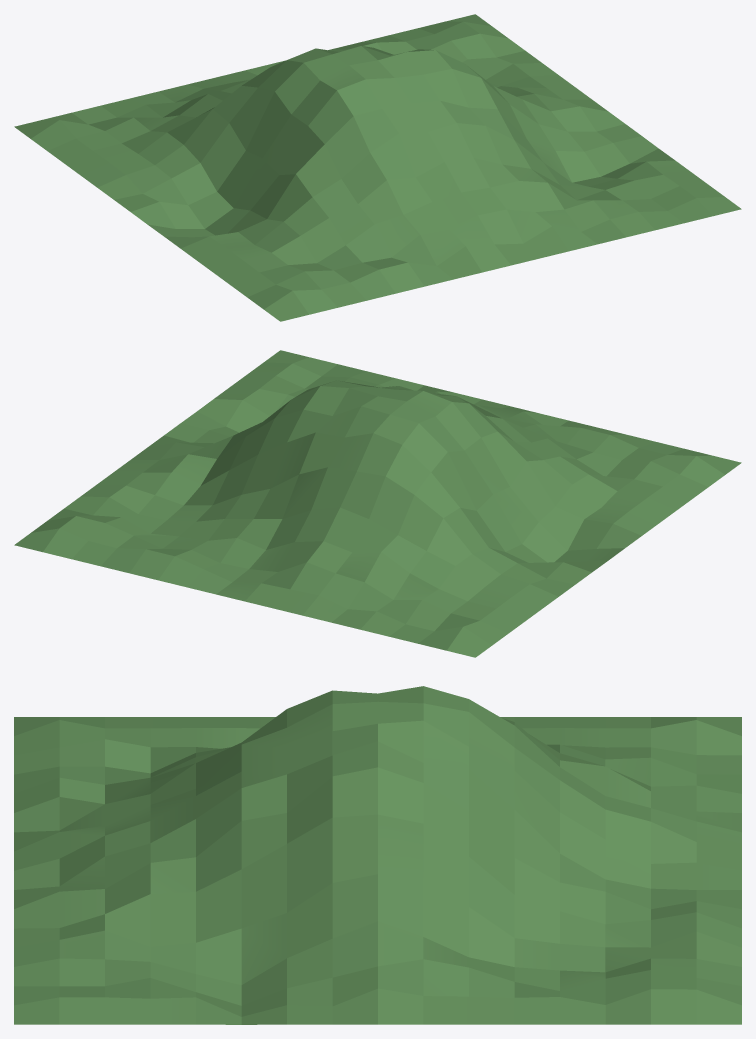
File: Terrain 3.gltf
3 renders of one model, top to bottom at view 1: azimuth 30°, elevation 25°; view 2: azimuth 150°, elevation 25°; view 3: azimuth 270°, elevation 25°, orthographic. The views are drawn at different scales.
Visible parts, largest first — view 1: Terrain 3; view 2: Terrain 3; view 3: Terrain 3.
Part boxes in pixels (bbox=[...]): Terrain 3: bbox=[14, 14, 741, 321]; Terrain 3: bbox=[14, 350, 741, 657]; Terrain 3: bbox=[14, 686, 741, 1024].
Size of the model in its own units: 0.5 by 0.1333 by 0.5.
